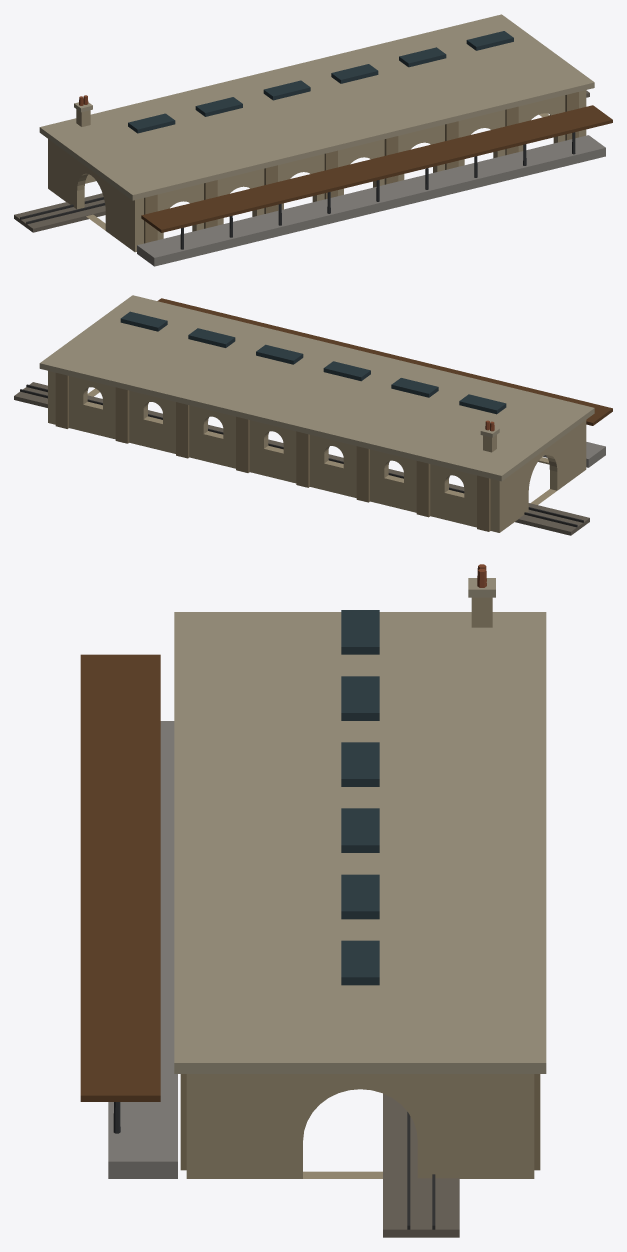
Rendered from goods_shed.glb.
3 views of the same model, one above another, from view 1: azimuth 30°, elevation 25°; view 2: azimuth 150°, elevation 25°; view 3: azimuth 270°, elevation 25° (orthographic). The views are drawn at different scales.
Parts seen in each view (by area): view 1: goods_shed; view 2: goods_shed; view 3: goods_shed.
Boxes of the visible parts, x1=… form: goods_shed: x1=14, y1=14, x2=612, y2=266; goods_shed: x1=14, y1=295, x2=612, y2=535; goods_shed: x1=80, y1=564, x2=546, y2=1237.
Size of the model in its own units: 74 by 12.65 by 26.8.
